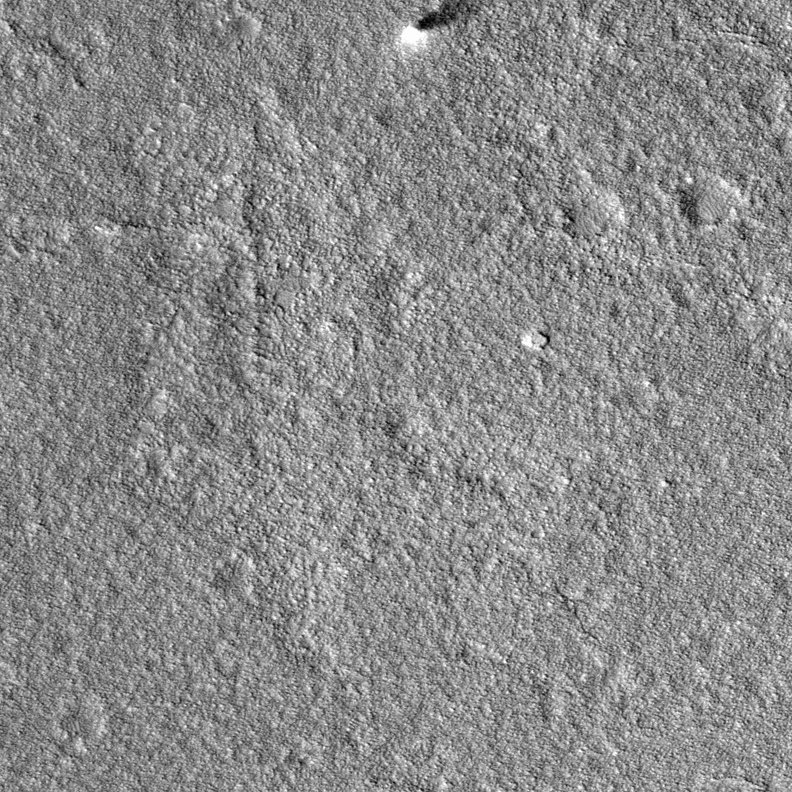dust_devil: (396, 0, 499, 53)
